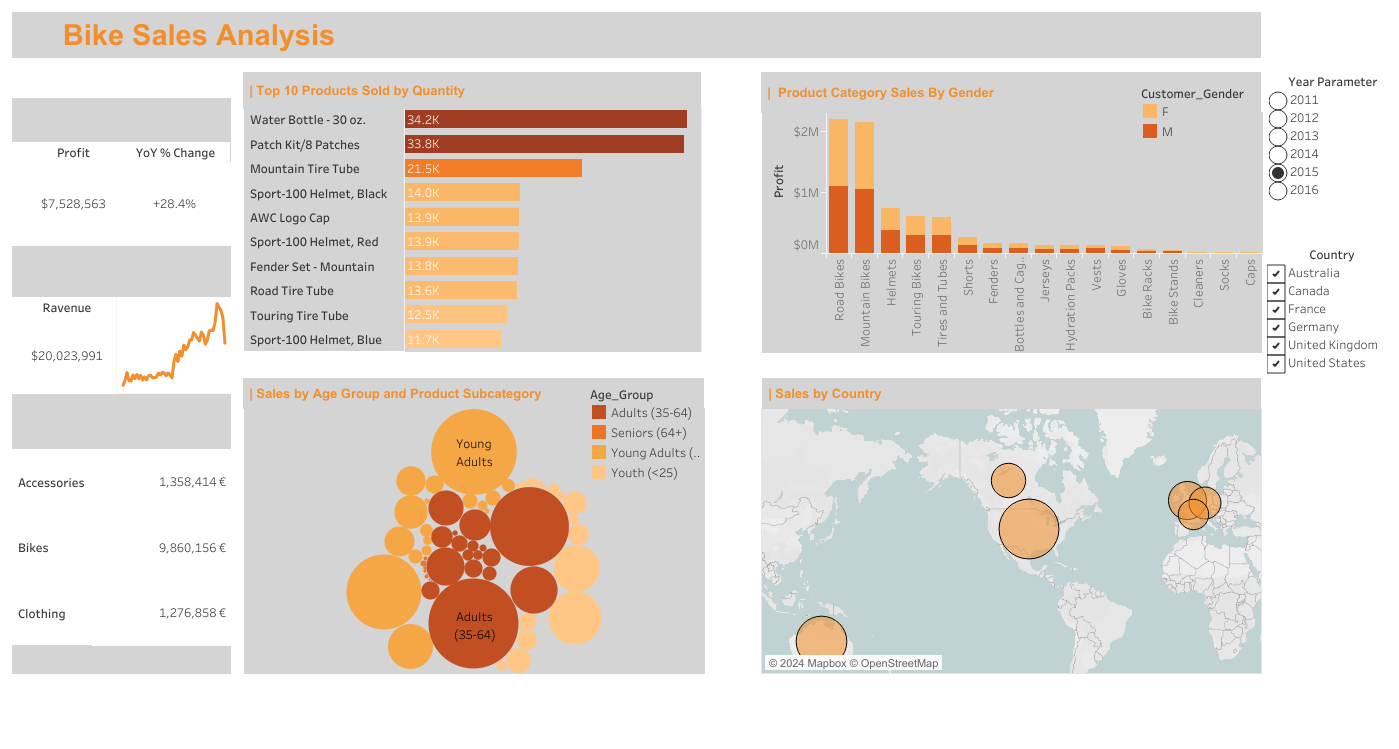

This screenshot's page, from the dashboard's own definition file:
{"tool":"tableau","page":{"name":"Sales Dashboard","canvas":[1400,750],"ordinal":0},"visuals":[{"type":"title","box":[8,8,1257,54]},{"type":"blank","box":[8,62,1257,680]},{"type":"parameter","param":"[Parameters].[Parameter 1]","box":[1269,71,128,137]},{"type":"text","box":[243,72,458,37]},{"type":"text","box":[761,72,500,41]},{"type":"legend","title":"Sub Category Bar chart","param":"[federated.0aqwxdi1nw8yje1g7g7n61i7v5s8].[none:Customer_Gender:nk]","box":[1140,82,112,63]},{"type":"worksheet","title":"Top 10 products","mark":"Bar","rows":["Product"],"box":[244.1,107.1,457.9,245.3]},{"type":"worksheet","title":"Sub Category Bar chart","mark":"Automatic","rows":["Profit"],"cols":["Sub_Category"],"box":[762,112,500,241]},{"type":"worksheet","title":"Profit Card","mark":"Automatic","cols":["Calculation_1117737185403191298"],"box":[11,142,125,103]},{"type":"worksheet","title":"YoY % change","mark":"Automatic","cols":["Calculation_1117737185411420168"],"box":[121,142,109,103]},{"type":"filter","title":"Age group bubble chart","param":"[federated.0aqwxdi1nw8yje1g7g7n61i7v5s8].[none:Country:nk]","box":[1267,244,130,156]},{"type":"worksheet","title":"Ravenue Card","mark":"Automatic","cols":["Calculation_1117737185413152777"],"box":[12,297,110,96]},{"type":"worksheet","title":"Ravenue line chart","mark":"Automatic","rows":["Revenue"],"cols":["Date"],"box":[116,297,115,96]},{"type":"text","box":[243.3,377.5,461.1,31.8]},{"type":"text","box":[762,378,499,31]},{"type":"legend","title":"Age group bubble chart","param":"[federated.0aqwxdi1nw8yje1g7g7n61i7v5s8].[none:Age_Group:nk]","box":[589,383,112,98]},{"type":"worksheet","title":"Age group bubble chart","mark":"Circle","box":[244.1,407.6,460.3,265.3]},{"type":"worksheet","title":"Map","mark":"Automatic","box":[761,408,501,266]},{"type":"worksheet","title":"Cost Cards","mark":"Automatic","rows":["Product_Category"],"box":[12,449,219,196]}]}

Visuals, with their boxes in screenshot pixels (x1, y1, x2, y2), scaled from the page's 1400x750 canvas onto the 1399x749 screenshot:
title: 8:8:1264:62
blank: 8:62:1264:741
parameter: 1268:71:1396:208
text: 243:72:700:109
text: 760:72:1260:113
"Sub Category Bar chart" legend: 1139:82:1251:145
"Top 10 products" worksheet (Bar marks): 244:107:701:352
"Sub Category Bar chart" worksheet: 761:112:1261:353
"Profit Card" worksheet: 11:142:136:245
"YoY % change" worksheet: 121:142:230:245
"Age group bubble chart" filter: 1266:244:1396:399
"Ravenue Card" worksheet: 12:297:122:392
"Ravenue line chart" worksheet: 116:297:231:392
text: 243:377:704:409
text: 761:377:1260:408
"Age group bubble chart" legend: 589:382:700:480
"Age group bubble chart" worksheet (Circle marks): 244:407:704:672
"Map" worksheet: 760:407:1261:673
"Cost Cards" worksheet: 12:448:231:644
